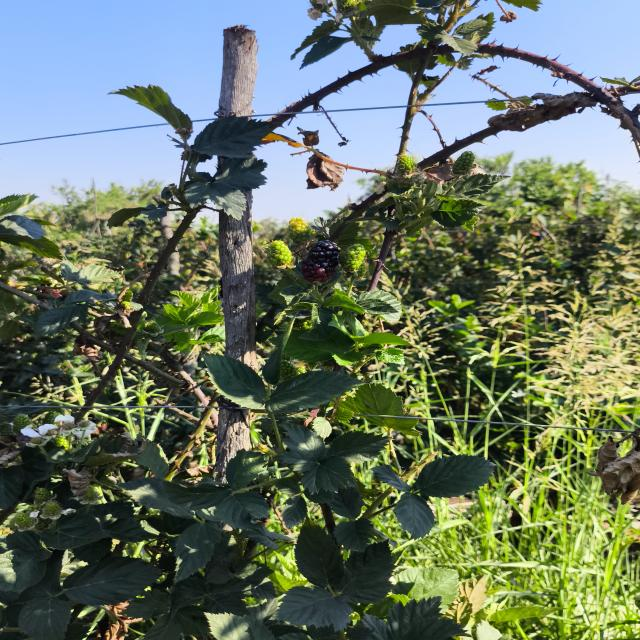marron: (301, 240, 340, 282)
verde: (381, 154, 417, 192), (340, 243, 367, 278), (288, 218, 315, 245), (266, 240, 292, 267), (451, 151, 475, 175)
